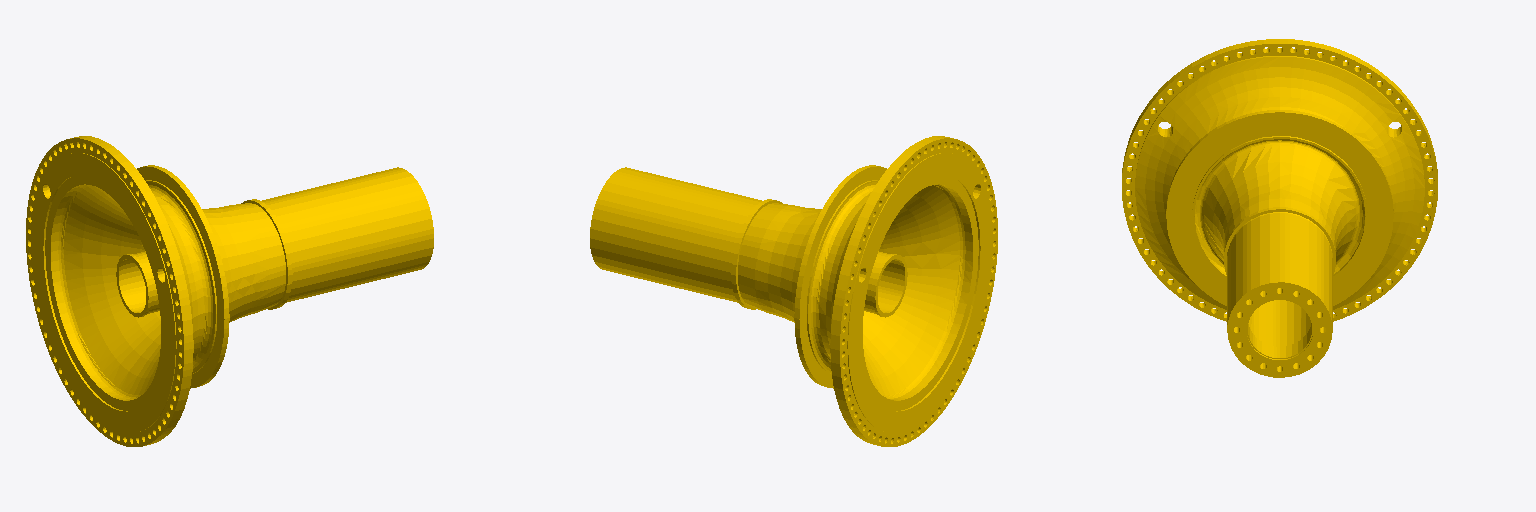
Rendered from Frame.obj.
3 views of the same model, side by side, from view 1: azimuth 30°, elevation 25°; view 2: azimuth 150°, elevation 25°; view 3: azimuth 270°, elevation 25° (orthographic).
Visible parts, largest first — view 1: FRAME; view 2: FRAME; view 3: FRAME.
Part boxes in pixels (x1,y1,x2,y2): FRAME: (26,136,433,446); FRAME: (590,136,997,446); FRAME: (1122,39,1437,377).
Size of the model in its own units: 15.55 by 14.03 by 14.03.